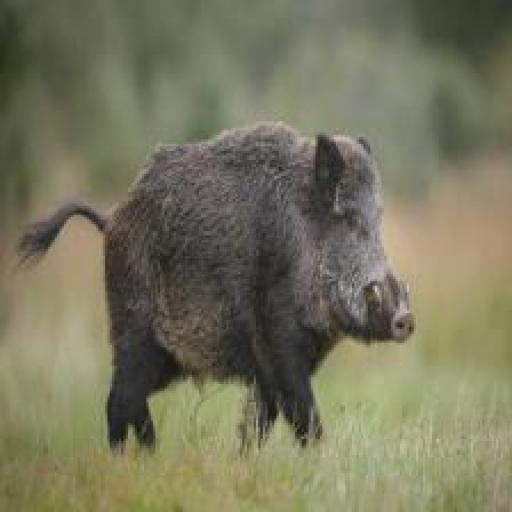Pig: (12, 121, 412, 453)
